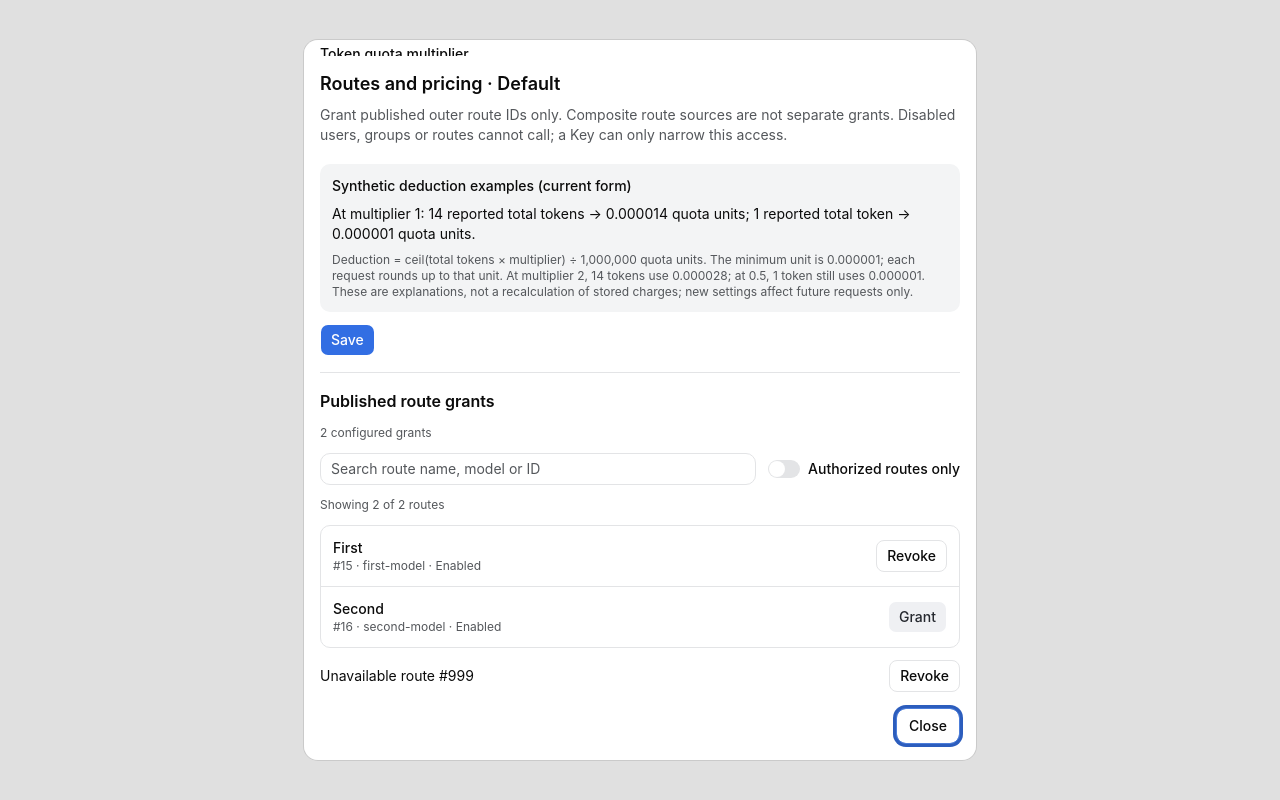
Test case: administrator user workflows › filters the route list without changing existing or unavailable grants
(page scrolled)
Click the switch named "Authorized routes only".
click(784, 469)  # box [768, 460, 800, 478]
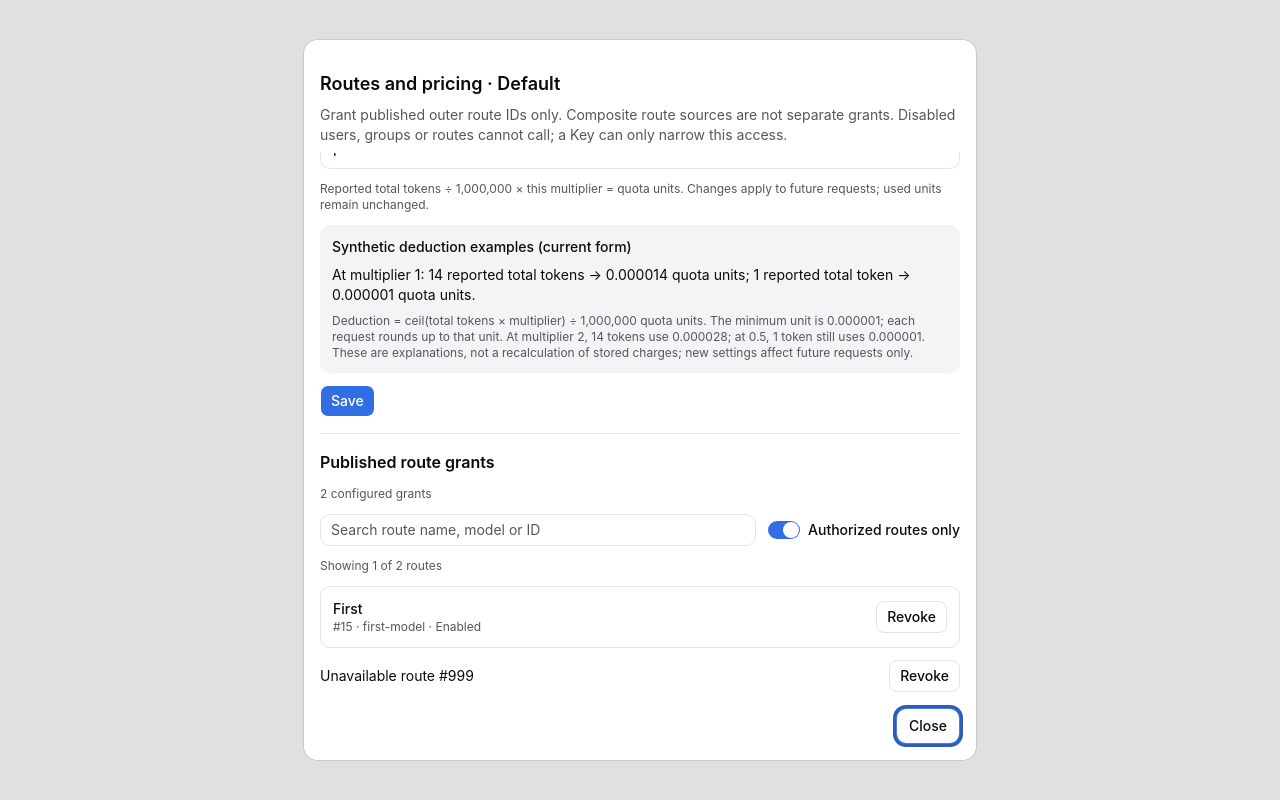
Type "absent" into the field labelled "Search route name, model or ID".
click(538, 530); type("absent")  # box [320, 514, 756, 546]
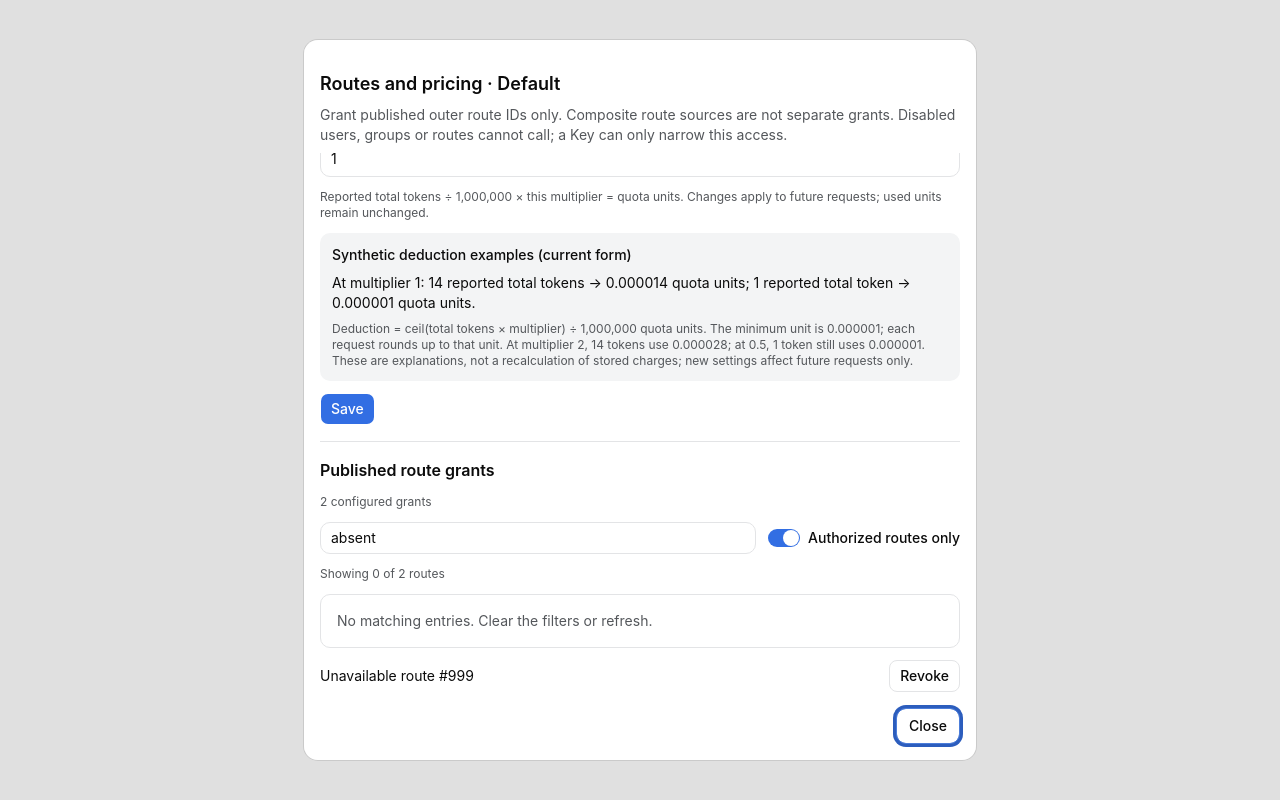
Check: the text "Unavailable route #999" is shown, box [320, 666, 474, 686]
Check: the text "No matching entries. Clear the filters or refresh." is shown, box [337, 612, 652, 629]
